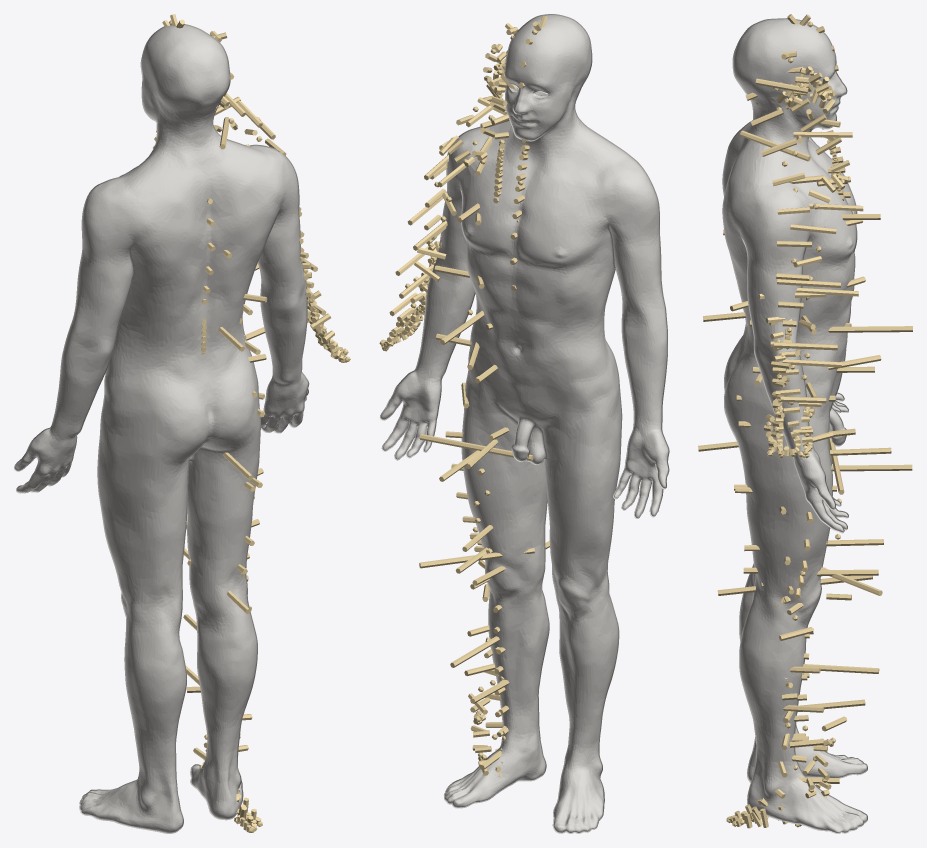
File: body_f.glb
3 renders of one model, left to right at view 1: azimuth 30°, elevation 25°; view 2: azimuth 150°, elevation 25°; view 3: azimuth 270°, elevation 25°, orthographic.
Parts seen in each view (by area): view 1: skin, meridians; view 2: skin, meridians; view 3: skin, meridians.
Part boxes in pixels (left/top/right/bottom): skin: left=14, top=24, right=309, bottom=833; meridians: left=153, top=14, right=350, bottom=832; skin: left=380, top=14, right=669, bottom=833; meridians: left=379, top=15, right=549, bottom=777; skin: left=722, top=18, right=867, bottom=833; meridians: left=698, top=14, right=912, bottom=828.
Size of the model in its own units: 0.7011 by 1.75 by 0.4308.
